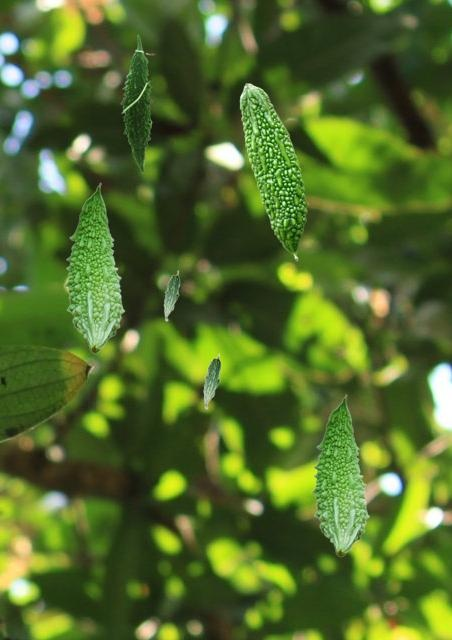ampalaya: (239, 82, 309, 261), (63, 182, 125, 353), (310, 394, 370, 557), (119, 34, 156, 174), (203, 352, 221, 409), (163, 270, 180, 321)
